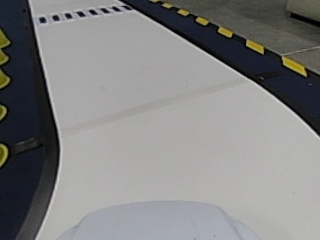crosswalk: (37, 3, 132, 24)
